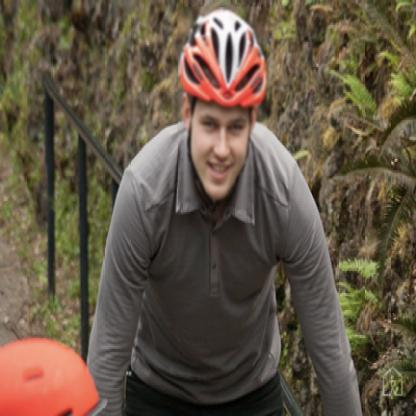Helmet: (170, 10, 272, 203), (3, 324, 104, 416)
